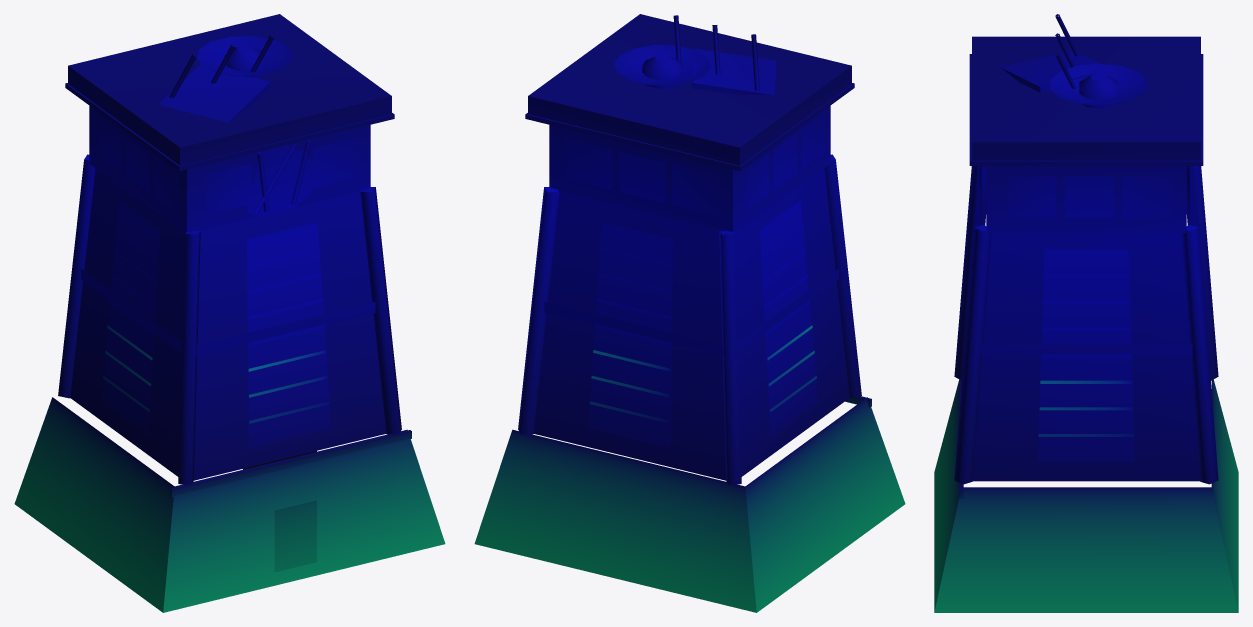
The model's file is lookouttower_damaged.glb.
The picture shows the model from 3 angles, left to right: view 1: azimuth 30°, elevation 25°; view 2: azimuth 150°, elevation 25°; view 3: azimuth 270°, elevation 25°; orthographic projection. The views are drawn at different scales.
Visible parts, largest first — view 1: lod0; view 2: lod0; view 3: lod0.
Part boxes in pixels (<box>): lod0: <box>14,14,445,612</box>; lod0: <box>474,14,905,612</box>; lod0: <box>934,14,1238,612</box>.
Size of what is drawn, in the model's own units: 8 by 13.33 by 7.3.
